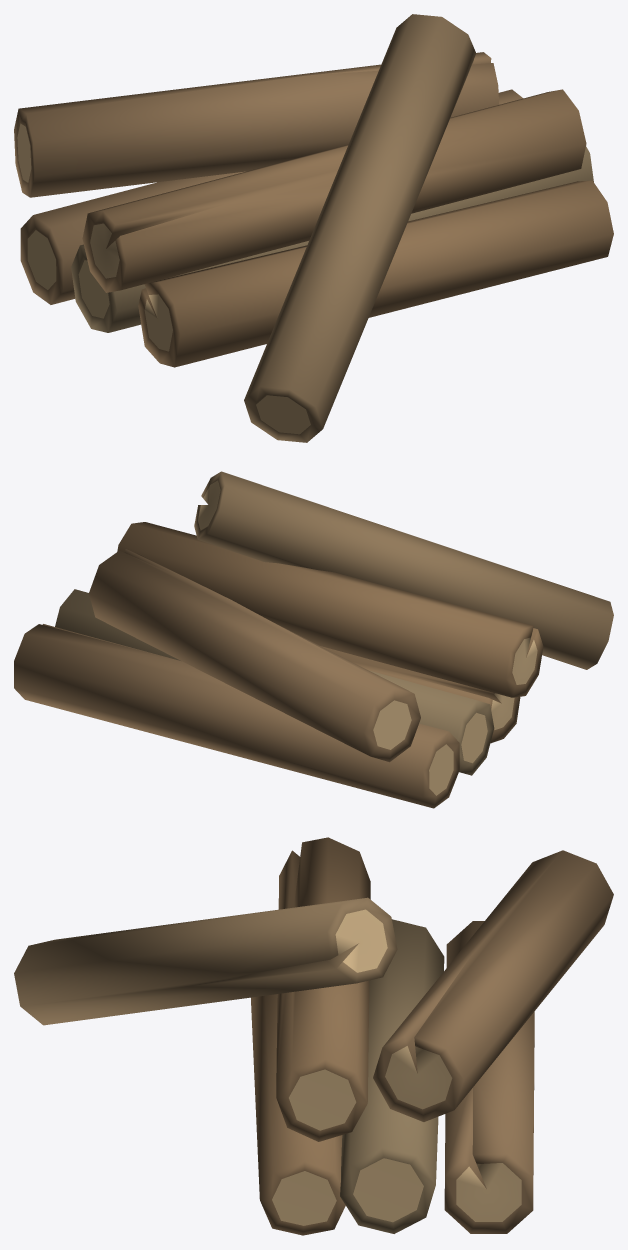
The model's file is rpgpp_ag_log_wood_02d.fbx.
The picture shows the model from 3 angles, top to bottom: view 1: azimuth 30°, elevation 25°; view 2: azimuth 150°, elevation 25°; view 3: azimuth 270°, elevation 25°; orthographic projection. The views are drawn at different scales.
Visible parts, largest first — view 1: rpgpp_ag_log_wood_02d; view 2: rpgpp_ag_log_wood_02d; view 3: rpgpp_ag_log_wood_02d.
Part boxes in pixels (x1,y1,x2,y2): rpgpp_ag_log_wood_02d: (14,14,613,442); rpgpp_ag_log_wood_02d: (14,471,613,808); rpgpp_ag_log_wood_02d: (14,837,613,1235).
Size of the model in its own units: 2.21 by 1.08 by 2.22.
